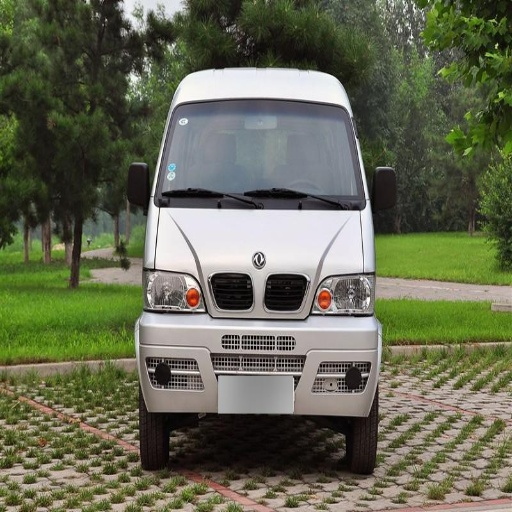front_bumper: (138, 274, 377, 417)
front_right_light: (146, 269, 201, 312)
hood: (154, 209, 363, 280)
